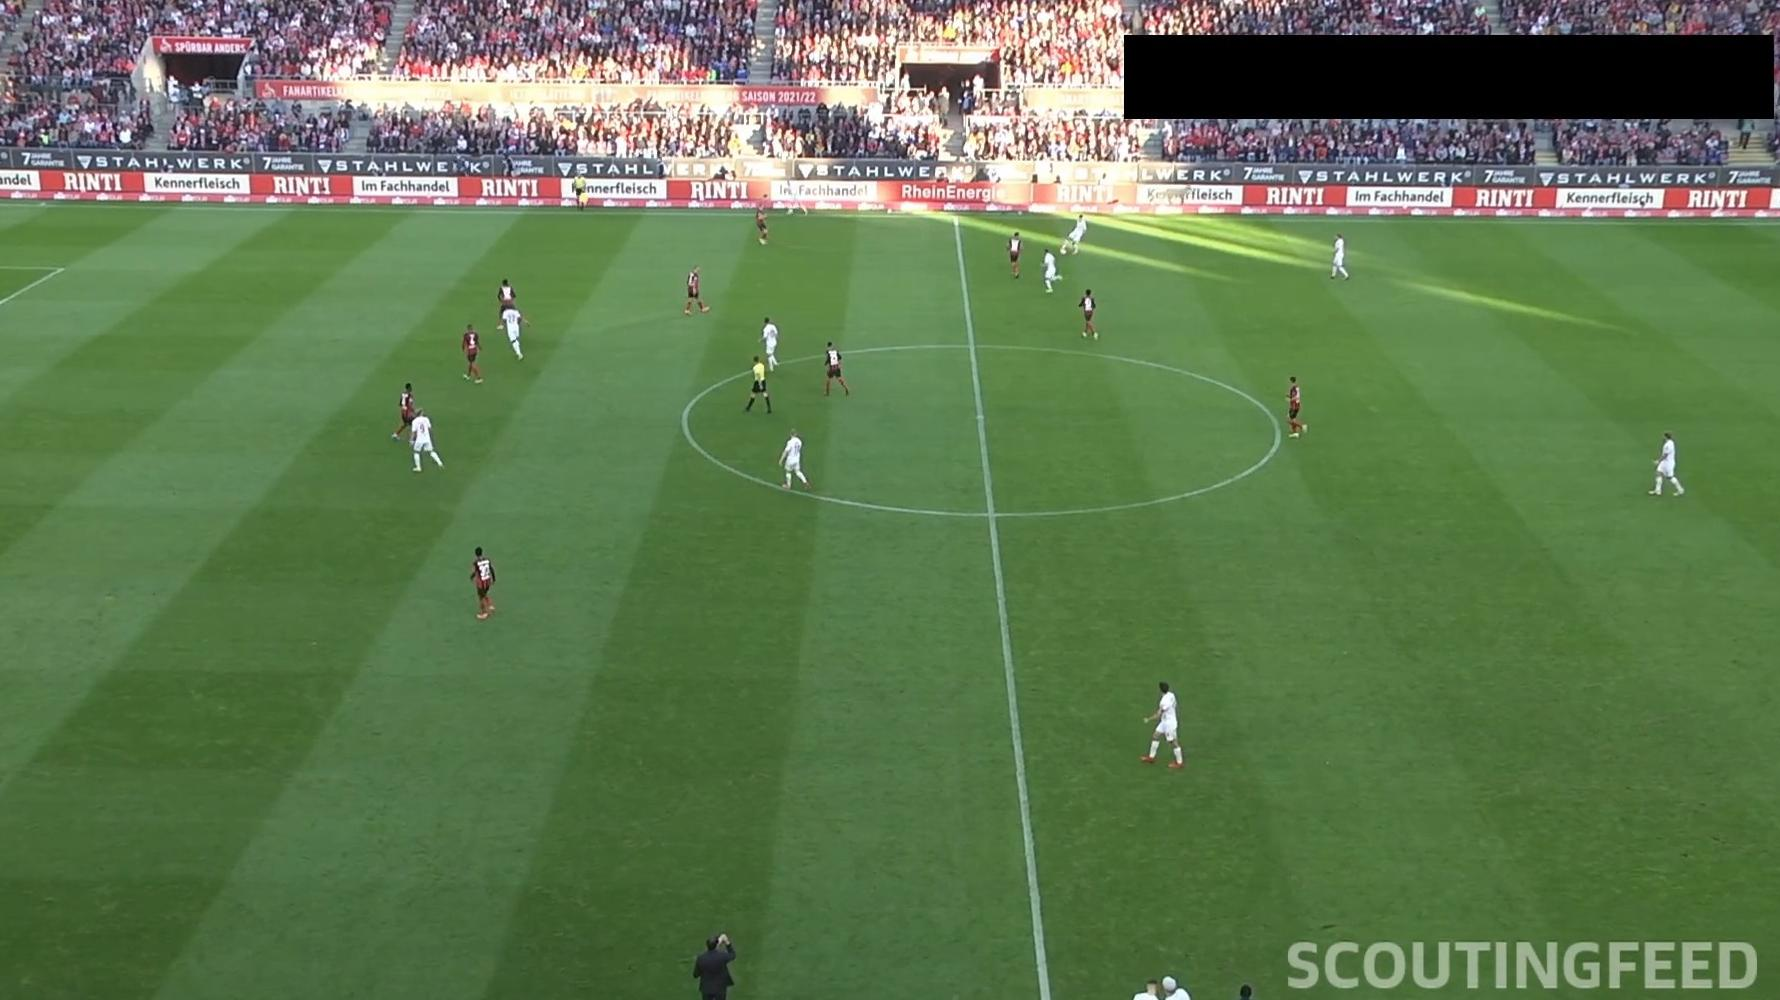ball: (1059, 247, 1067, 257)
